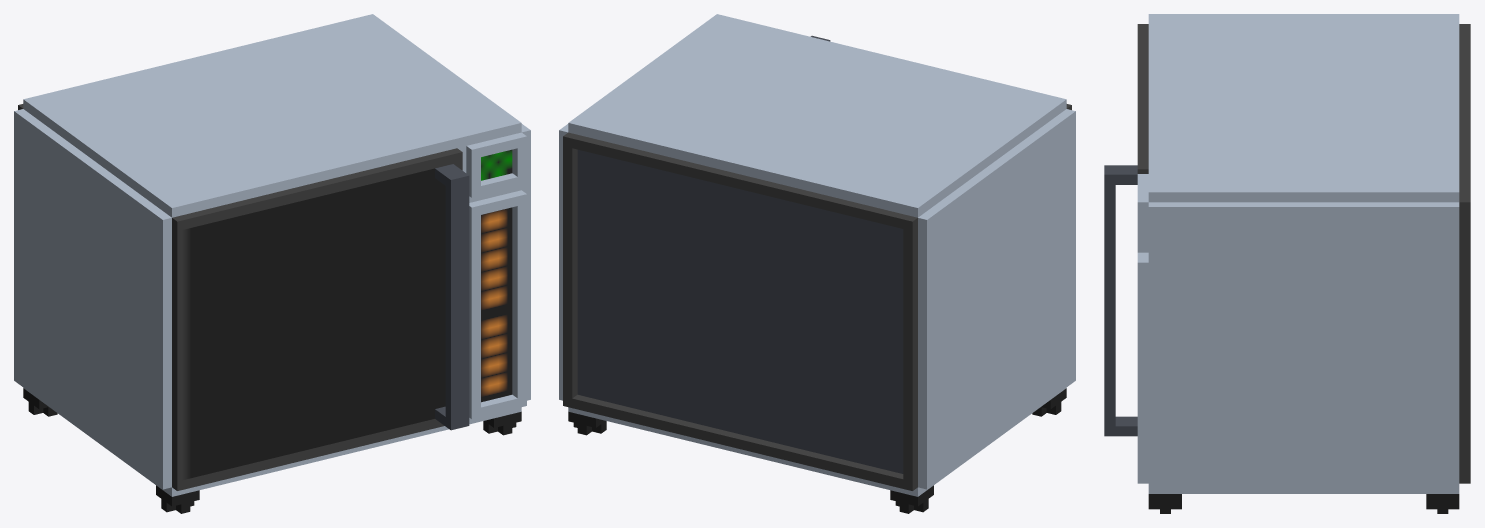
File: MediumObject_Microwave.fbx
3 views of the same model, side by side, from view 1: azimuth 30°, elevation 25°; view 2: azimuth 150°, elevation 25°; view 3: azimuth 270°, elevation 25° (orthographic). The views are drawn at different scales.
Visible parts, largest first — view 1: Microwave; view 2: Microwave; view 3: Microwave.
Part boxes in pixels (x1,y1,x2,y2): Microwave: (14,14,530,513); Microwave: (559,14,1075,513); Microwave: (1104,14,1470,513).
Size of the model in its own units: 40 by 32 by 33.
